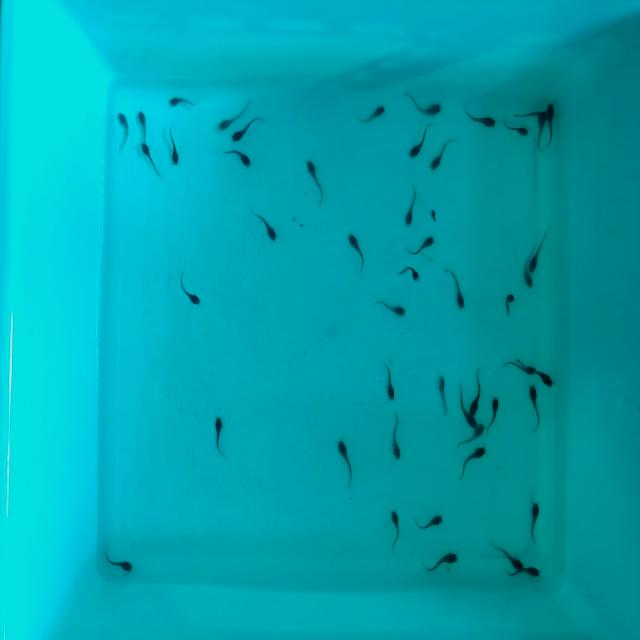lele: (490, 537, 528, 571), (453, 442, 487, 480), (216, 98, 252, 132), (336, 436, 358, 491), (140, 140, 168, 183), (177, 270, 207, 308), (454, 386, 478, 432), (302, 158, 326, 204), (406, 94, 446, 120), (423, 550, 461, 577), (228, 114, 260, 146), (250, 208, 280, 242), (446, 266, 469, 310), (426, 140, 454, 176), (406, 124, 432, 162), (458, 103, 496, 129), (529, 227, 550, 274), (349, 232, 371, 276), (100, 547, 136, 573), (452, 427, 487, 452), (222, 146, 254, 170), (380, 362, 398, 404), (408, 234, 437, 259), (528, 384, 543, 432), (361, 104, 389, 128), (468, 367, 482, 415), (416, 512, 446, 534), (390, 412, 404, 459), (166, 128, 182, 168), (376, 298, 408, 318), (212, 415, 226, 459), (504, 564, 542, 580), (486, 396, 502, 434), (498, 360, 536, 376), (118, 110, 131, 156), (404, 186, 418, 228), (500, 121, 530, 140), (531, 502, 543, 548), (390, 510, 402, 554), (548, 101, 558, 153), (537, 363, 555, 391), (438, 377, 450, 417), (536, 117, 546, 157), (138, 110, 150, 142), (170, 95, 200, 107), (401, 264, 421, 282), (504, 292, 517, 318), (512, 110, 548, 118), (522, 270, 534, 288), (429, 208, 437, 224)
